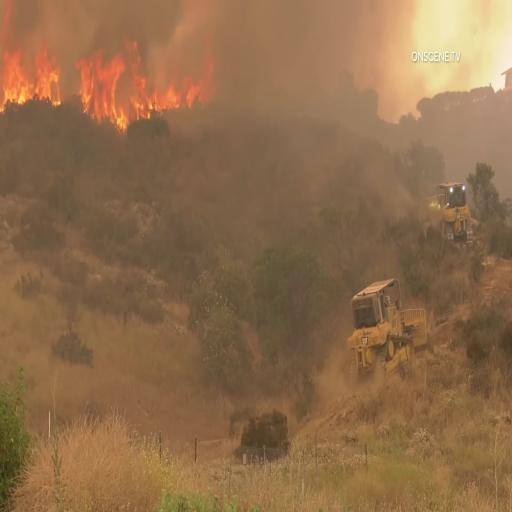fire: (76, 50, 168, 133), (0, 19, 63, 131)
